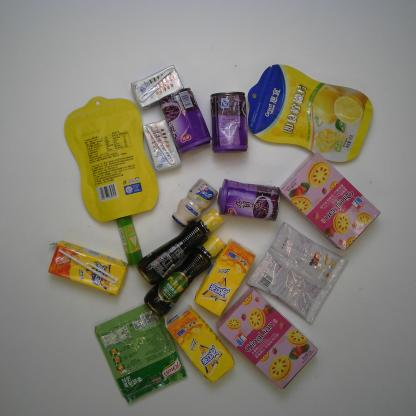Canned Food: (158, 86, 212, 155), (215, 178, 282, 221), (210, 90, 250, 155)
Dessert: (276, 150, 381, 252)
Dried Fruit: (62, 95, 164, 226), (244, 64, 375, 163)
Drink: (160, 302, 236, 383), (192, 237, 258, 317), (45, 239, 131, 296)
Instant Drink: (246, 220, 349, 326)
Milk: (129, 64, 184, 110), (171, 178, 219, 227), (140, 117, 182, 173)
Seasoner: (94, 299, 188, 404), (144, 235, 227, 316), (137, 208, 225, 283)
Stationery: (115, 211, 144, 267)
